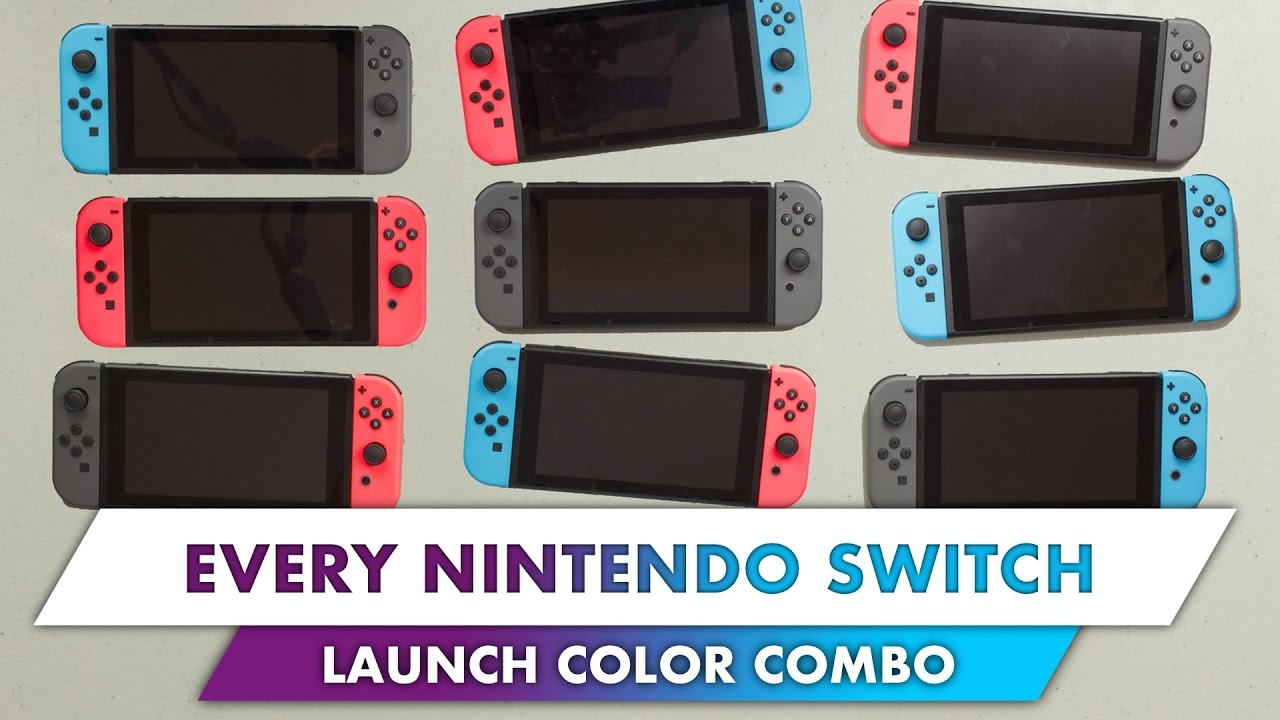NintendoSwitch: (887, 175, 1249, 350), (452, 1, 820, 169), (855, 1, 1215, 171), (455, 339, 812, 506), (55, 18, 417, 182), (69, 193, 429, 354), (469, 178, 831, 335), (46, 358, 407, 509), (861, 369, 1209, 512)
